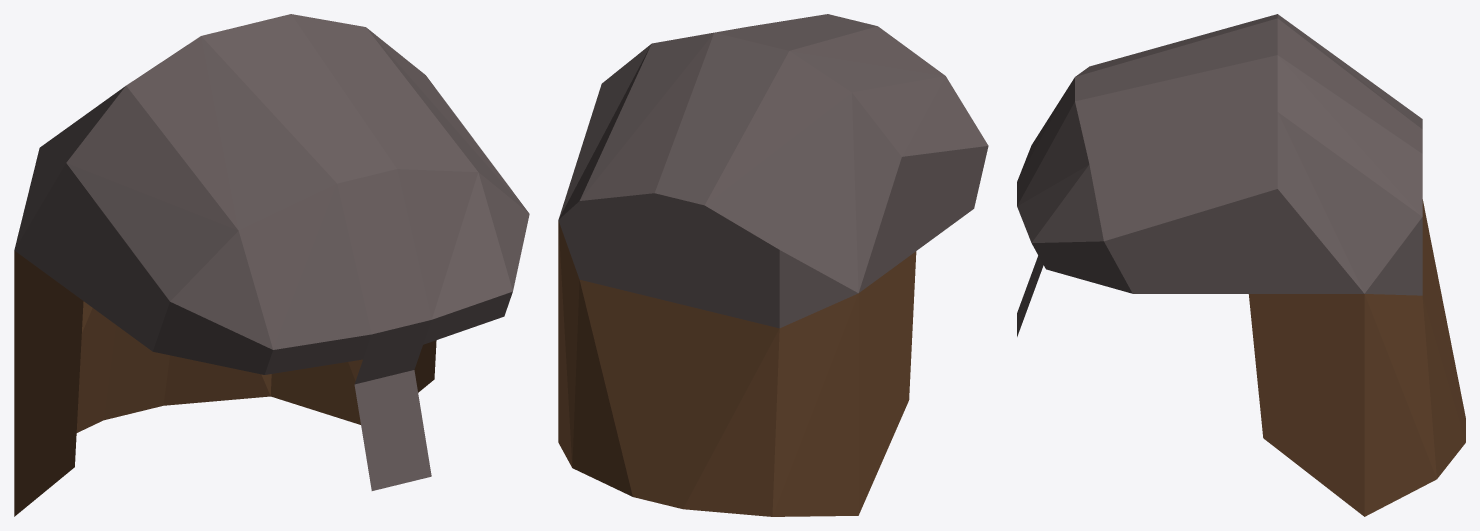
The model's file is model_6_npc_head.obj.
The picture shows the model from 3 angles, left to right: view 1: azimuth 30°, elevation 25°; view 2: azimuth 150°, elevation 25°; view 3: azimuth 270°, elevation 25°; orthographic projection. The views are drawn at different scales.
Visible parts, largest first — view 1: 6; view 2: 6; view 3: 6.
Boxes of the visible parts, left/top/right/bottom form: 6: left=14, top=14, right=529, bottom=516; 6: left=558, top=14, right=988, bottom=516; 6: left=1017, top=14, right=1465, bottom=516.
Size of the model in its own units: 96 by 124 by 124.
